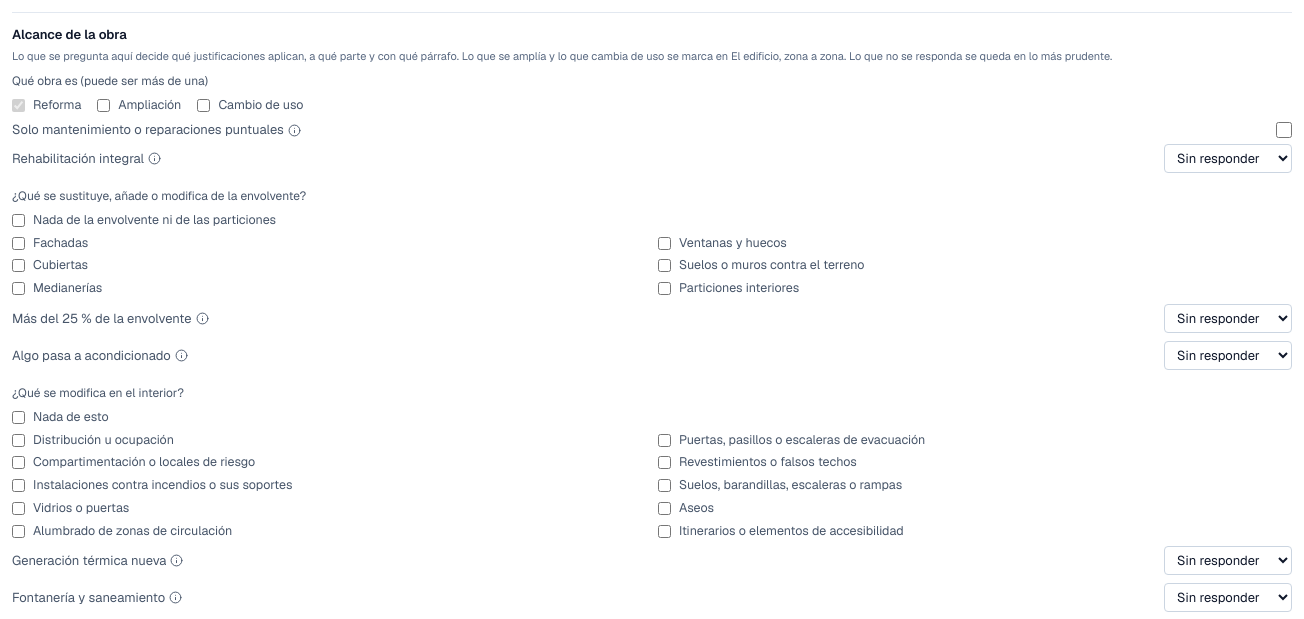
Scenario: AsistenteAlcance › marcar ampliación suma el tipo y pregunta por el 10 %
Click the checkbox labelled "Ampliación". click: {"x": 104, "y": 105}
box: top-left (97, 98), bottom-right (110, 112)
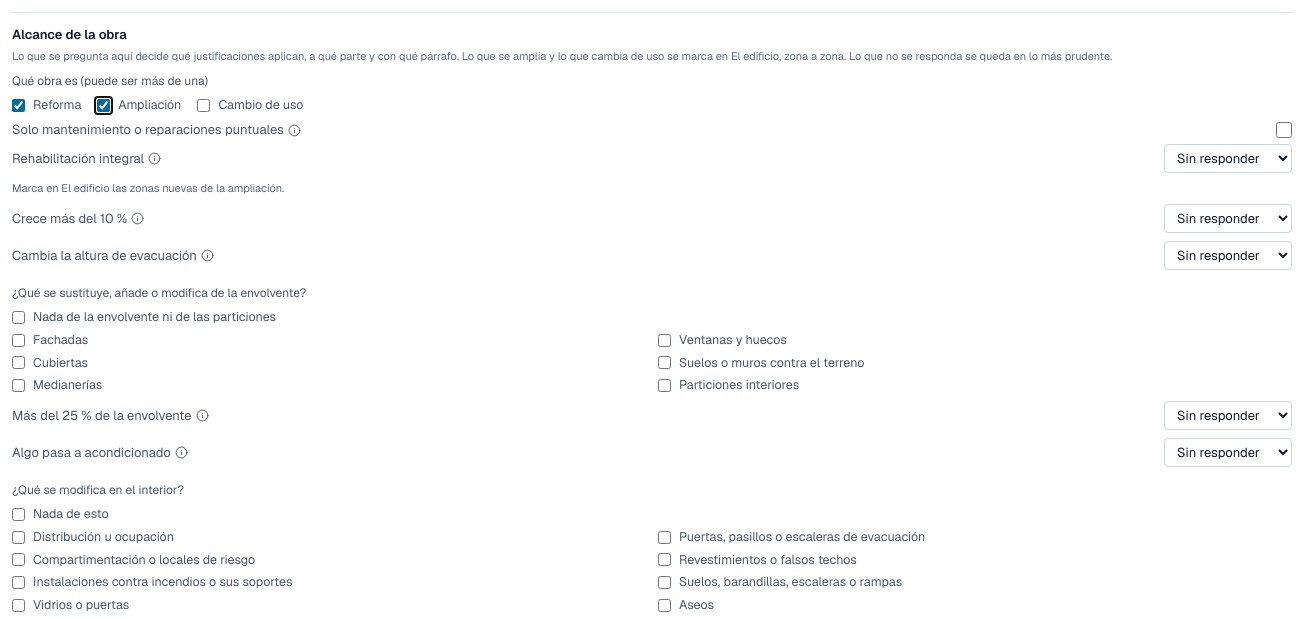
Expected: the dropdown labelled "Crece más del 10 %" is shown, top-left (1164, 204), bottom-right (1292, 233)
